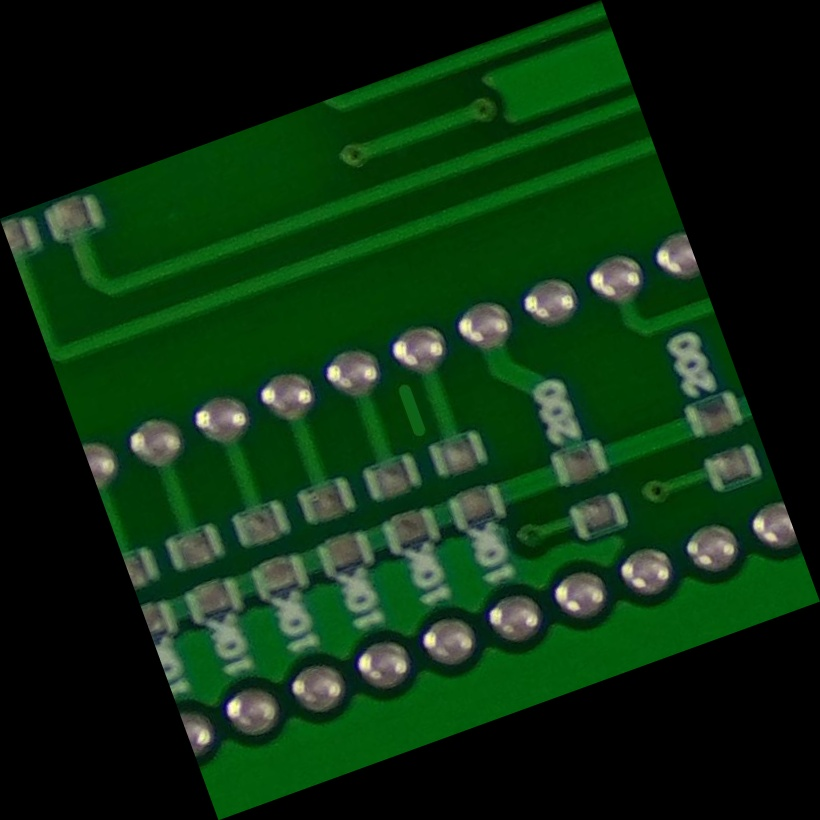spurious_copper: (376, 369, 444, 452)
